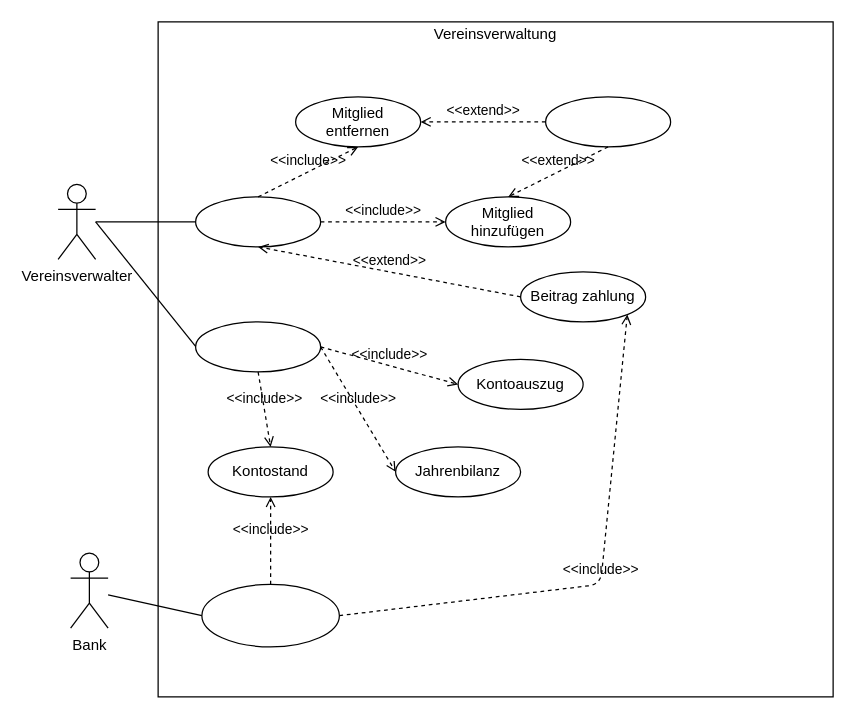
This 855x719 diagram has some shape labels left out. The box of each missing label's shape, as (x1, y1, x2, y2) in pixels:
Beitrags einzug (SEPA Verfahren): (201, 583, 339, 647)
Daten überarbeiten: (544, 96, 671, 147)
Finanzen des Vereins: (194, 321, 321, 372)
Mitglieder verwaltung: (194, 196, 321, 247)
